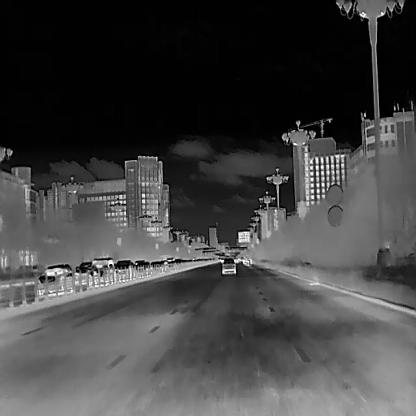car: (38, 263, 72, 287), (74, 261, 103, 283), (91, 257, 116, 282), (114, 260, 136, 280), (222, 258, 235, 274), (135, 261, 149, 274), (150, 260, 163, 271)
